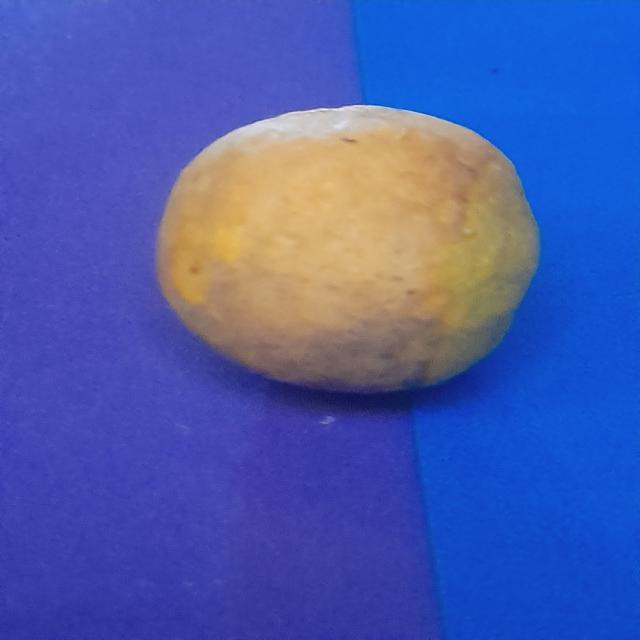thrips: (143, 96, 552, 410)
